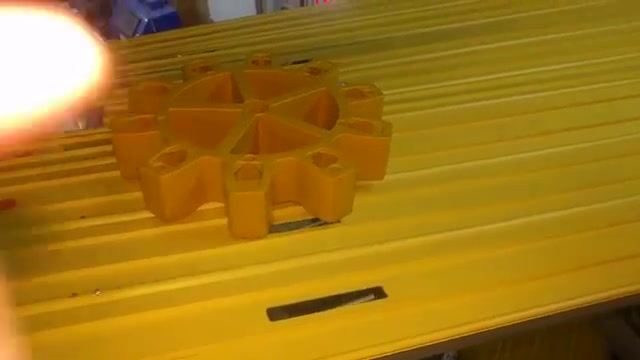gear: (100, 45, 403, 247)
